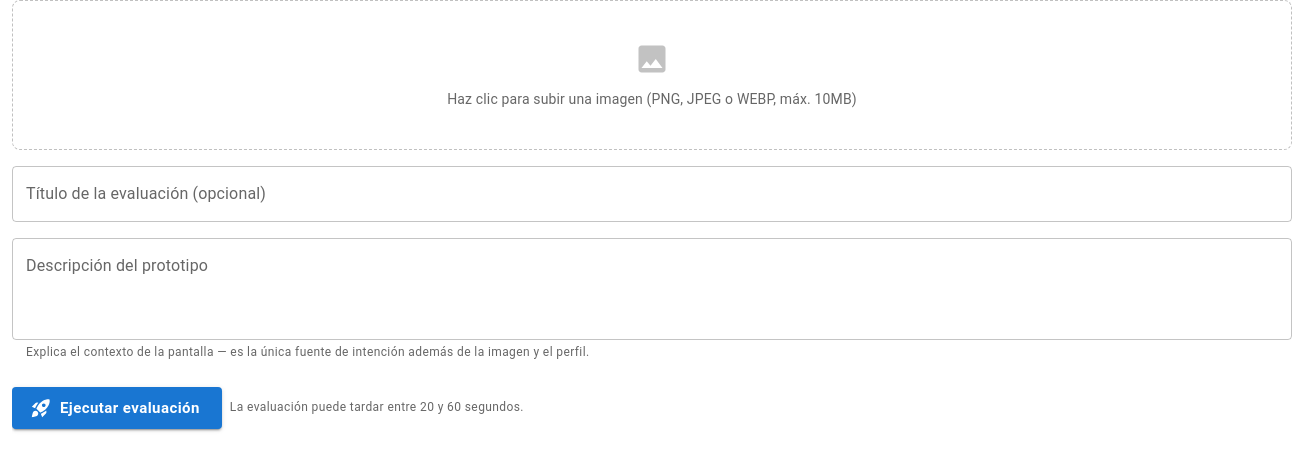
Test: PrototypeEvaluationForm (P5 — validación mínima) › blocks submit and shows an error when no image was selected, even with a valid description
Replace the text in the text box labelled "Descripción del prototipo" with "Pantalla de checkout ficticia con dos problemas controlados." at (652,289), box [26, 254, 1278, 324]
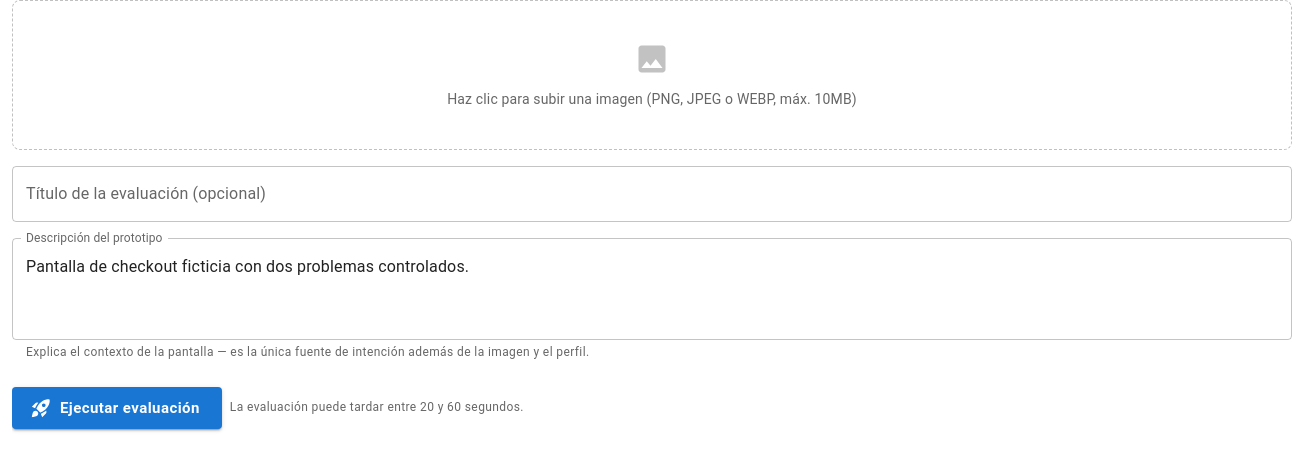
Click the button "Ejecutar evaluación" at (117,408), box [12, 387, 222, 429]
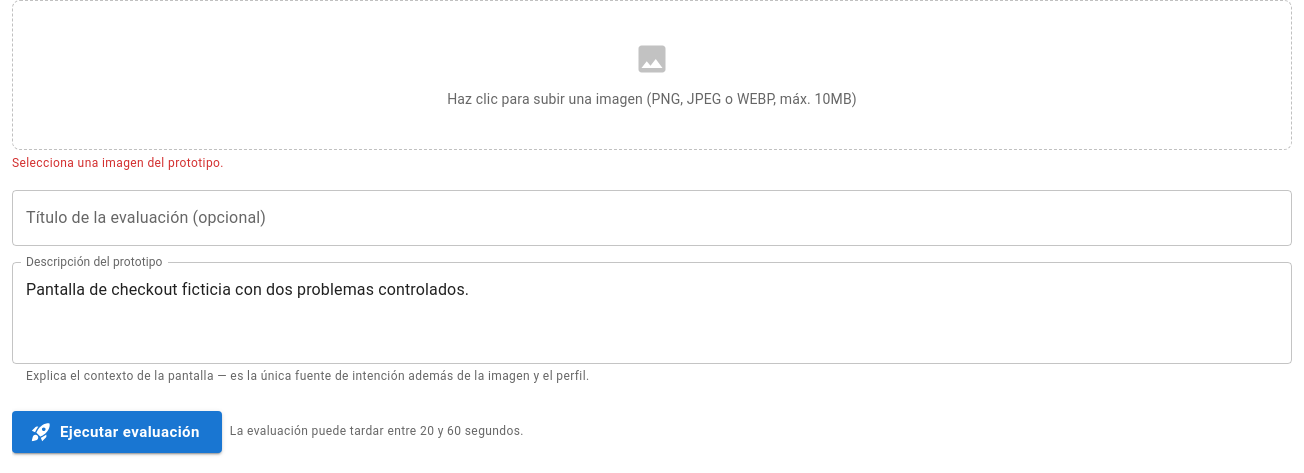
Expected: the text "Selecciona una imagen del prototipo." is shown, [12, 156, 224, 170]
